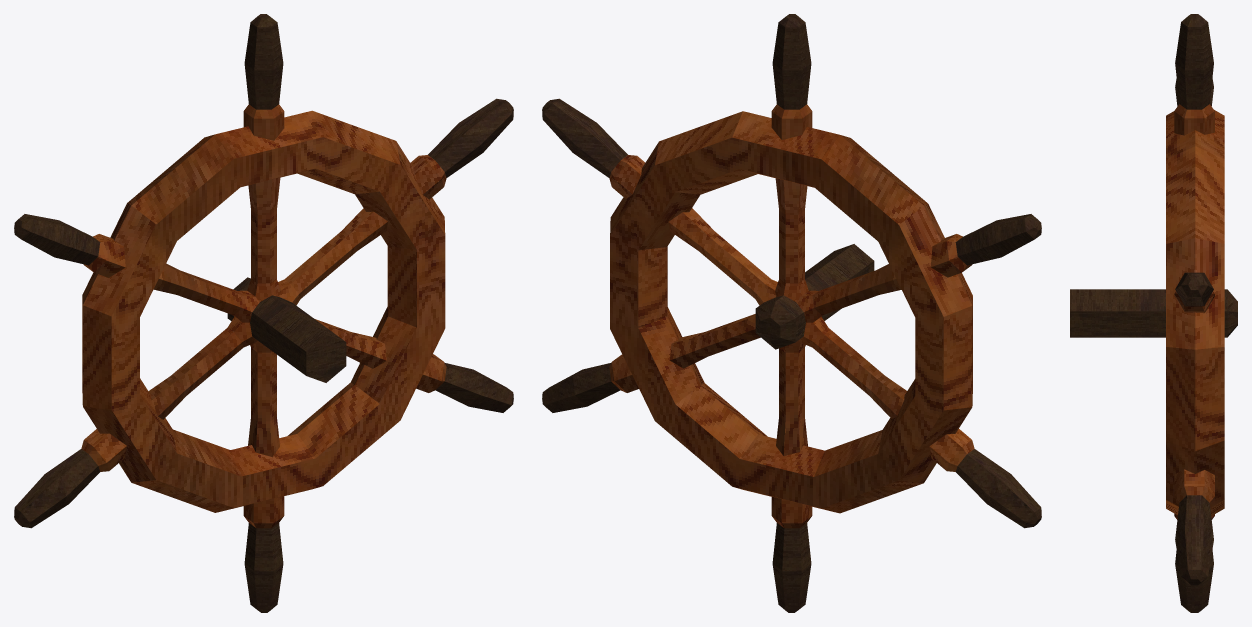
File: steering.glb
3 views of the same model, side by side, from view 1: azimuth 30°, elevation 25°; view 2: azimuth 150°, elevation 25°; view 3: azimuth 270°, elevation 25° (orthographic).
Parts seen in each view (by area): view 1: control_steering; view 2: control_steering; view 3: control_steering.
Part boxes in pixels (<box>): control_steering: <box>14,14,513,612</box>; control_steering: <box>542,14,1041,612</box>; control_steering: <box>1070,14,1237,612</box>.
Size of the model in its own units: 0.8476 by 0.97 by 0.2482.
2 materials, 2 textured.
